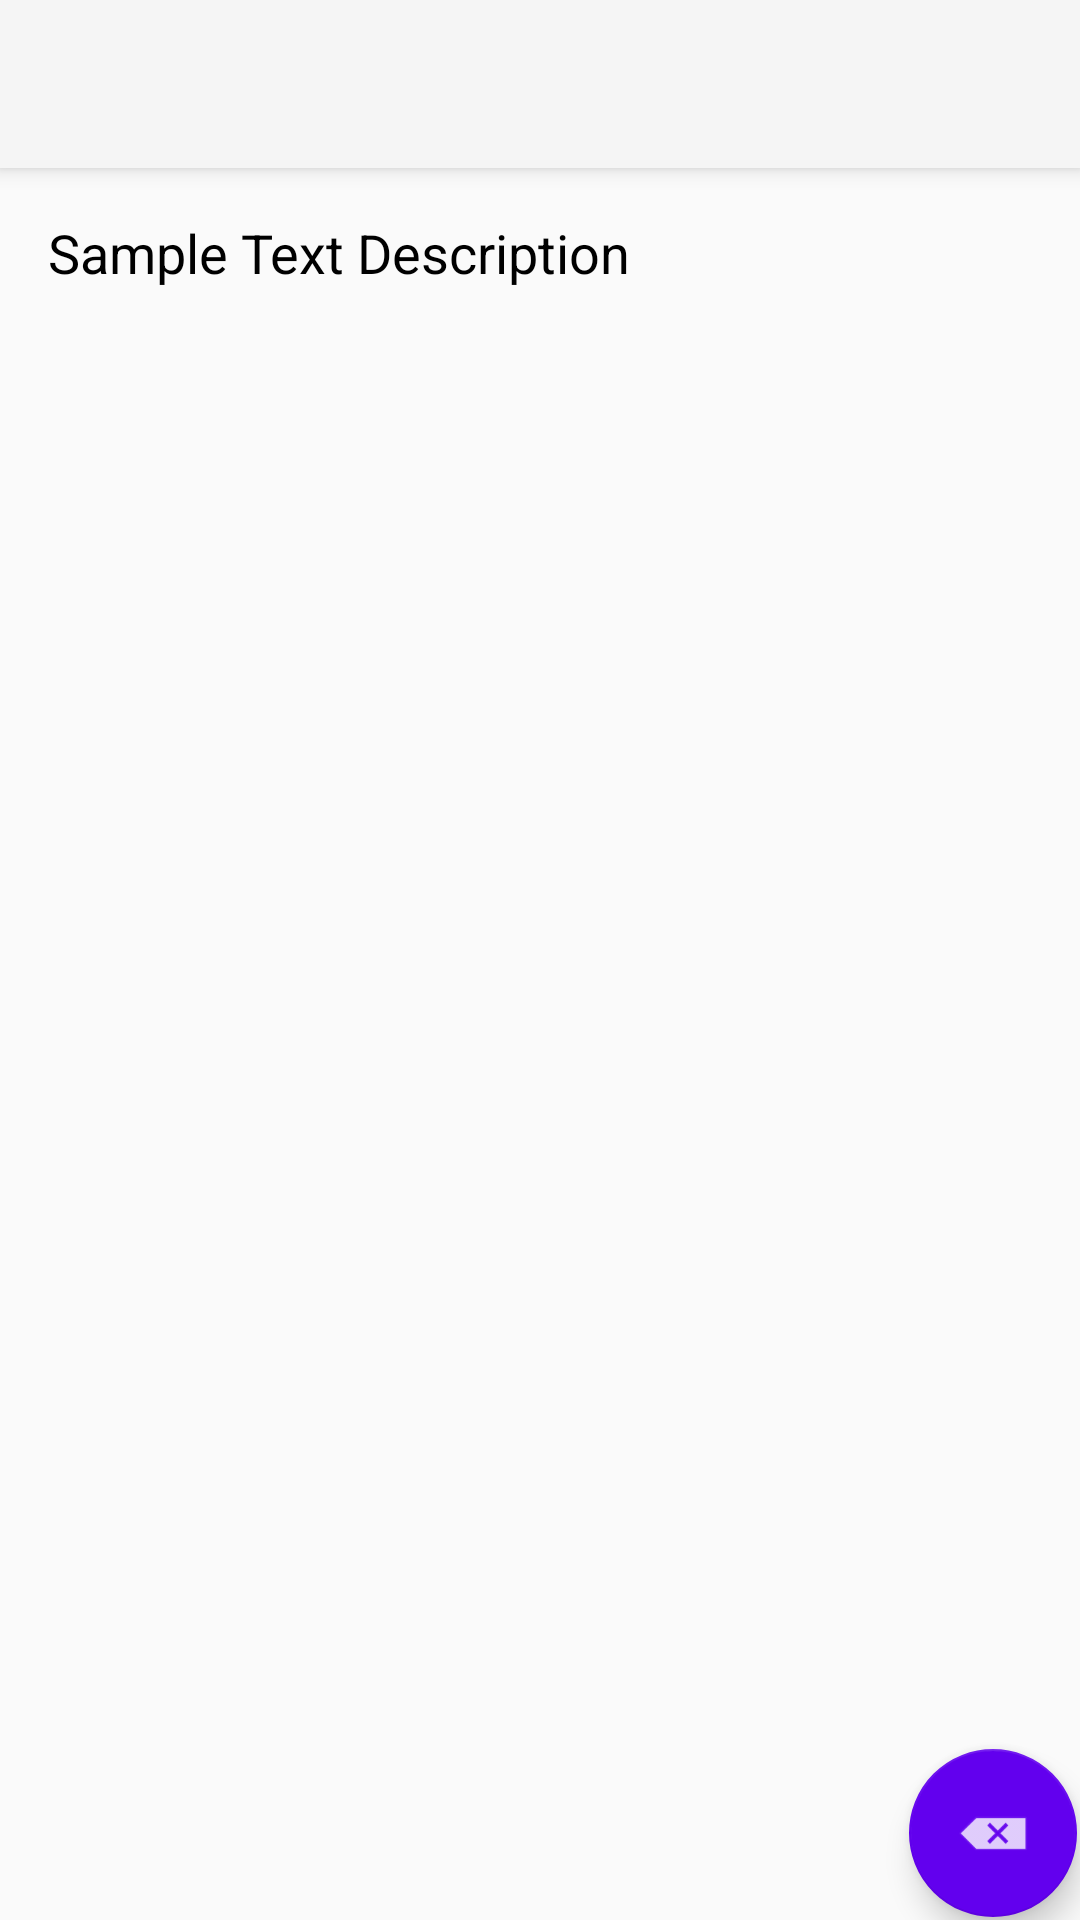

Screen size 1080px×1920px. Icon name, then its center in pixels as (x=x, y=y):
delete: (x=993, y=1833)
